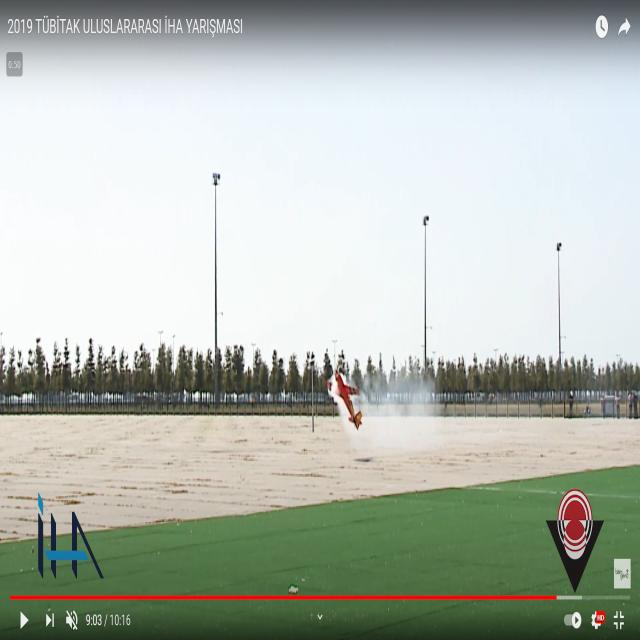iha: (327, 398, 363, 400)
